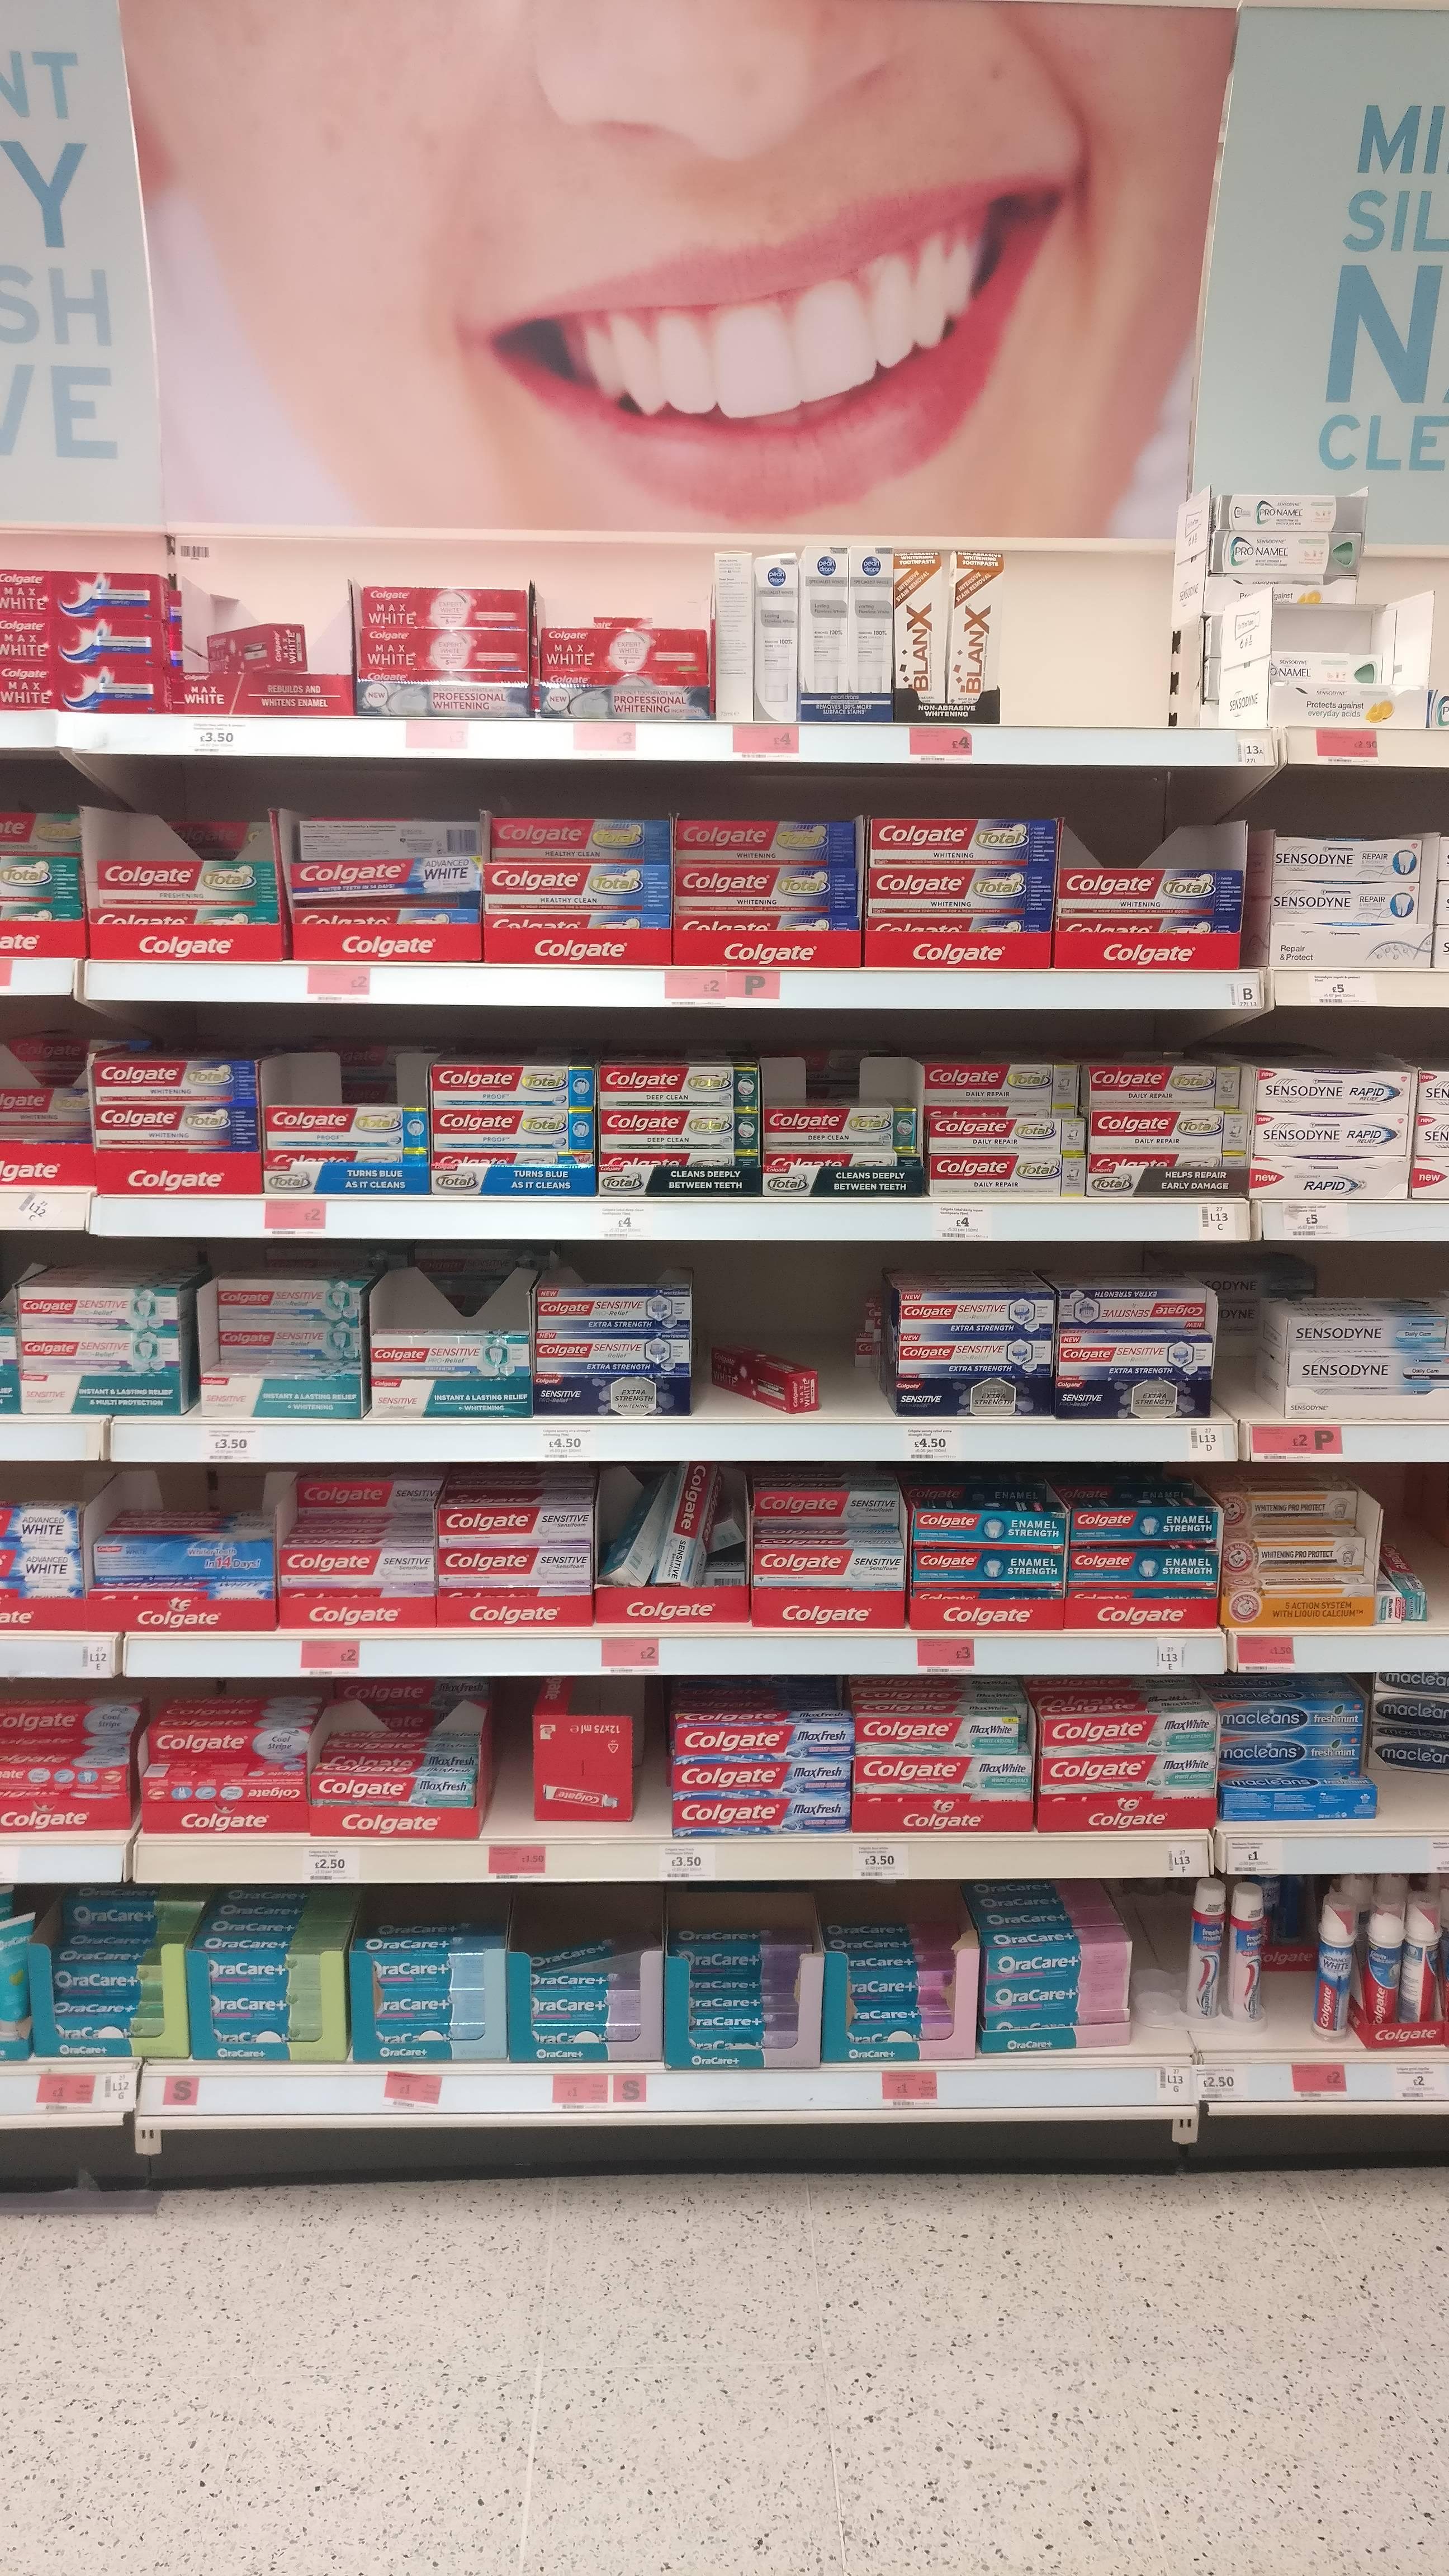misalignment: (975, 1886, 1139, 2058), (598, 1467, 752, 1631), (511, 1679, 660, 1840), (704, 1327, 833, 1415), (290, 846, 487, 890), (1371, 1672, 1449, 1771), (193, 616, 320, 676), (1219, 1773, 1384, 1819), (715, 545, 754, 720), (0, 1907, 39, 2061), (1373, 1541, 1431, 1626)
